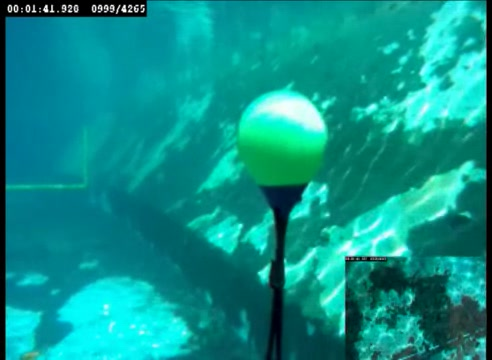buoy_green: (233, 87, 331, 214)
